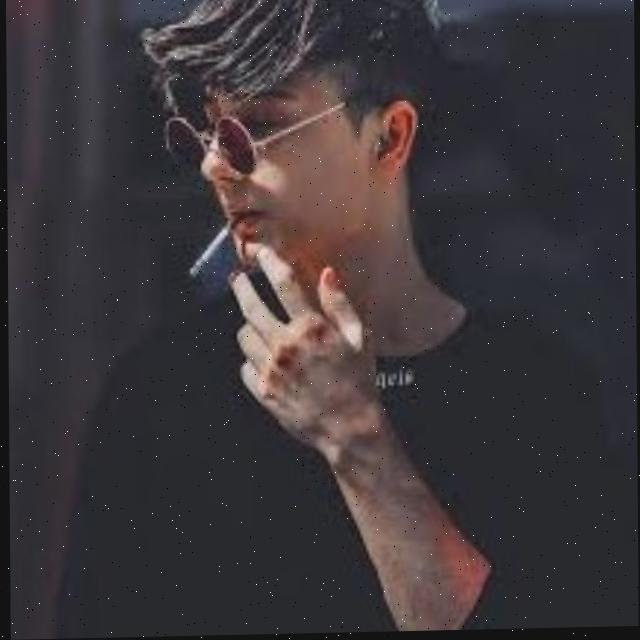cigarette: (189, 216, 240, 278)
